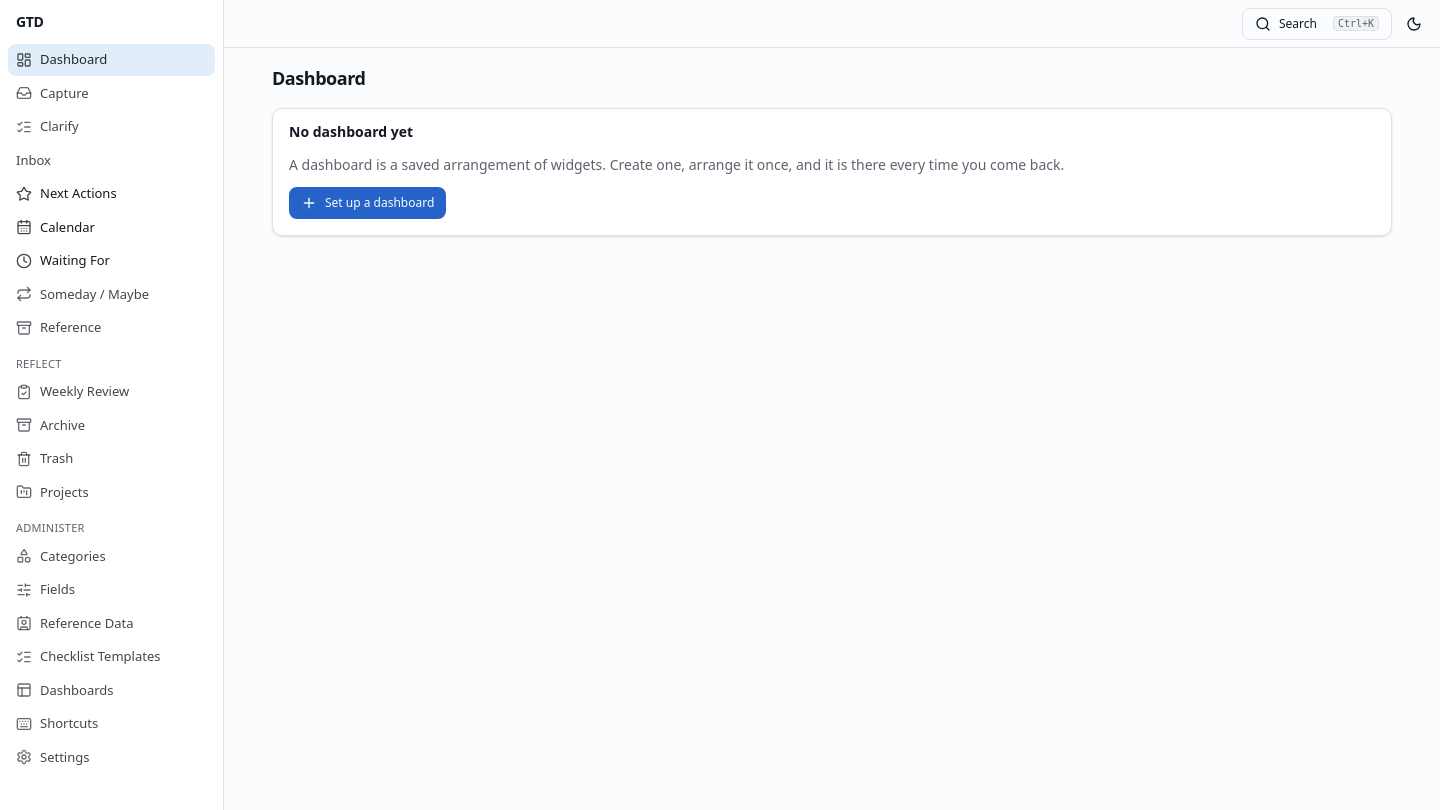
Scenario: reaching the dashboard › offers a way to set one up when there is none
Expected: the heading "No dashboard yet" is shown, top-left (289, 122), bottom-right (413, 141)
Click the button "Set up a dashboard" at (368, 203), box top-left (289, 187), bottom-right (446, 219)
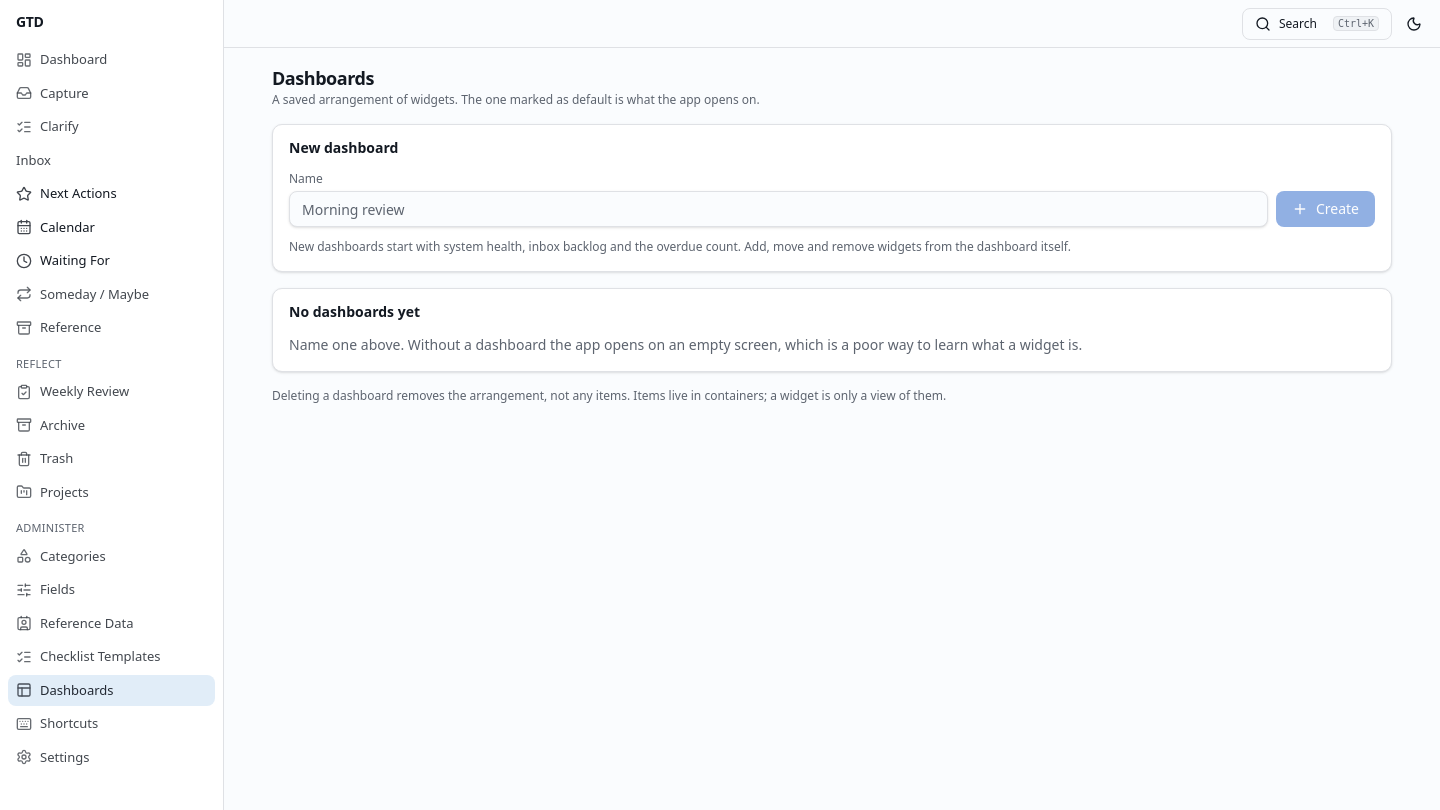
Result: the field labelled "Name" is shown at top-left (289, 191), bottom-right (1268, 227)
